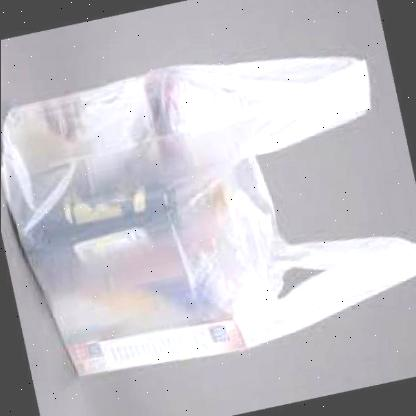Others: (0, 55, 416, 377)
